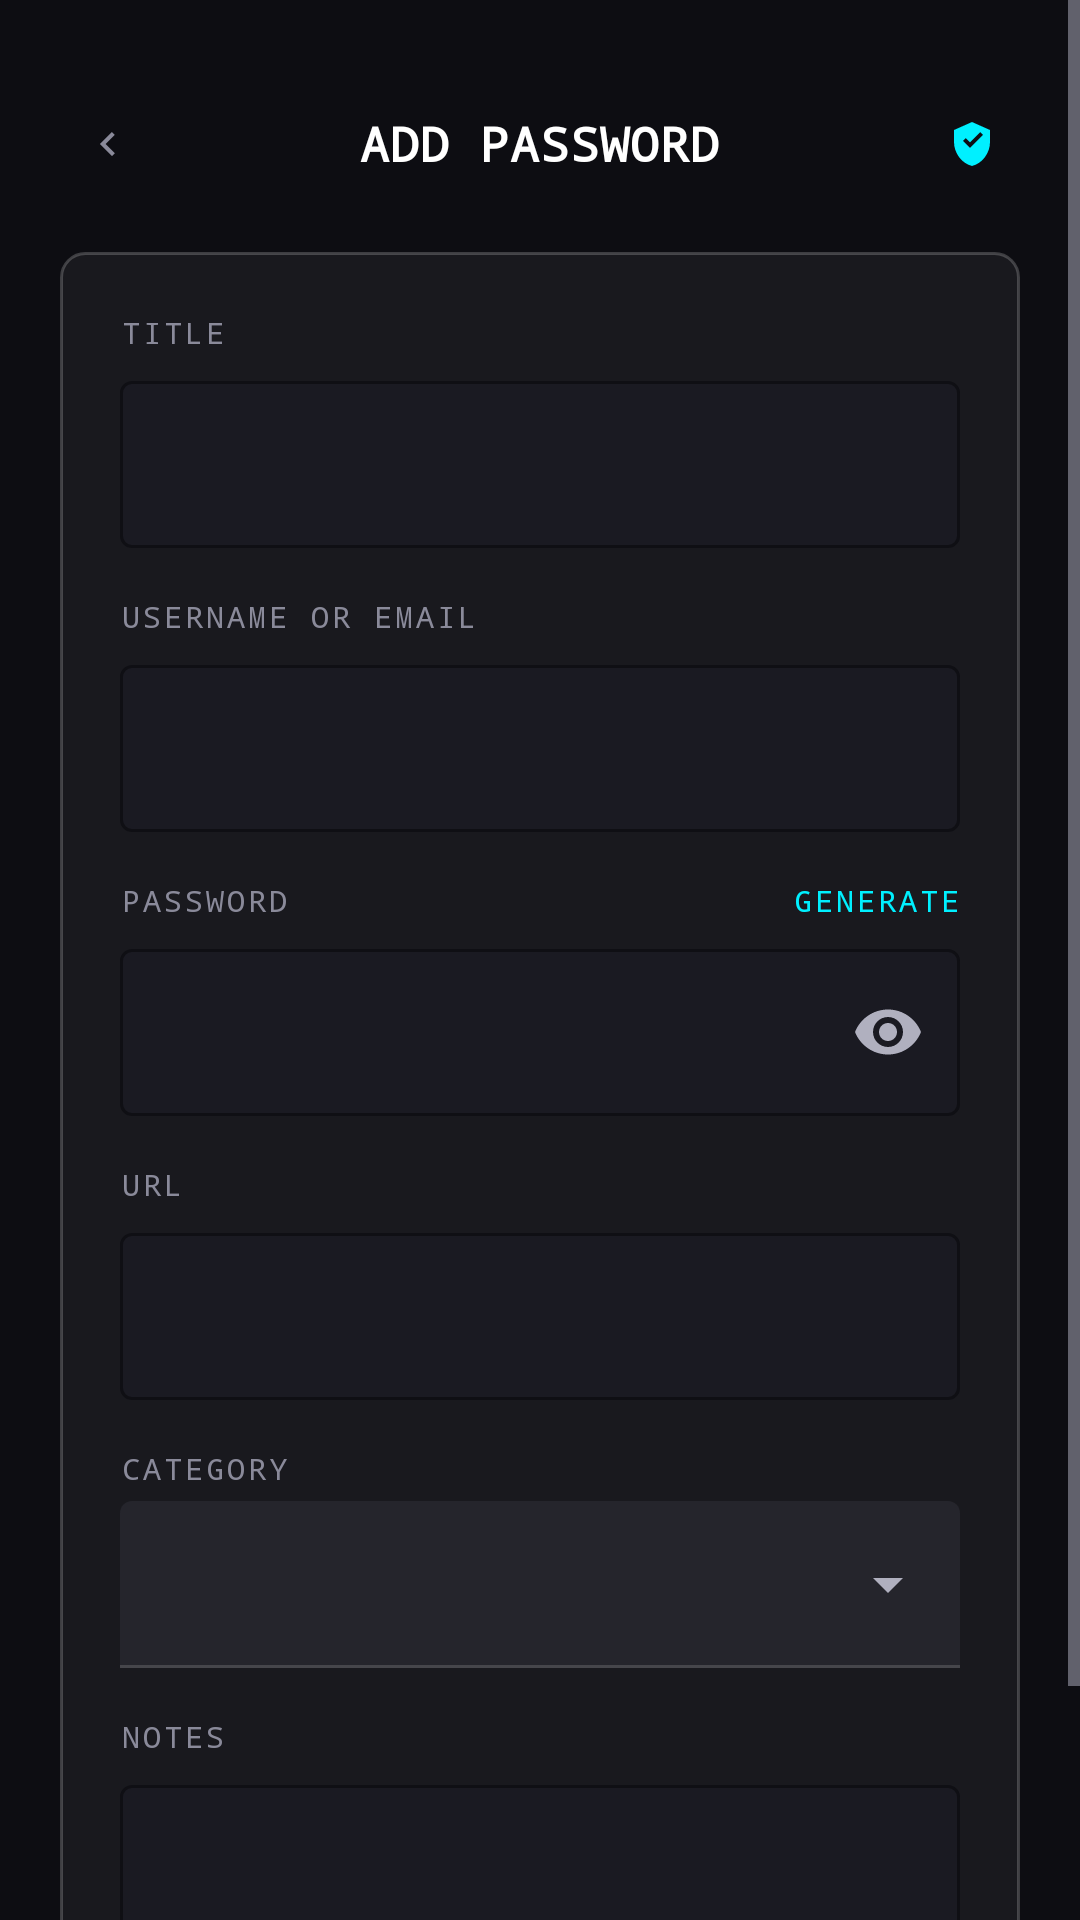

Screen size 1080 × 1920. Icon name, then its box in pixels as (x1, y1, x2, y2):
shield check: (954, 122, 990, 166)
